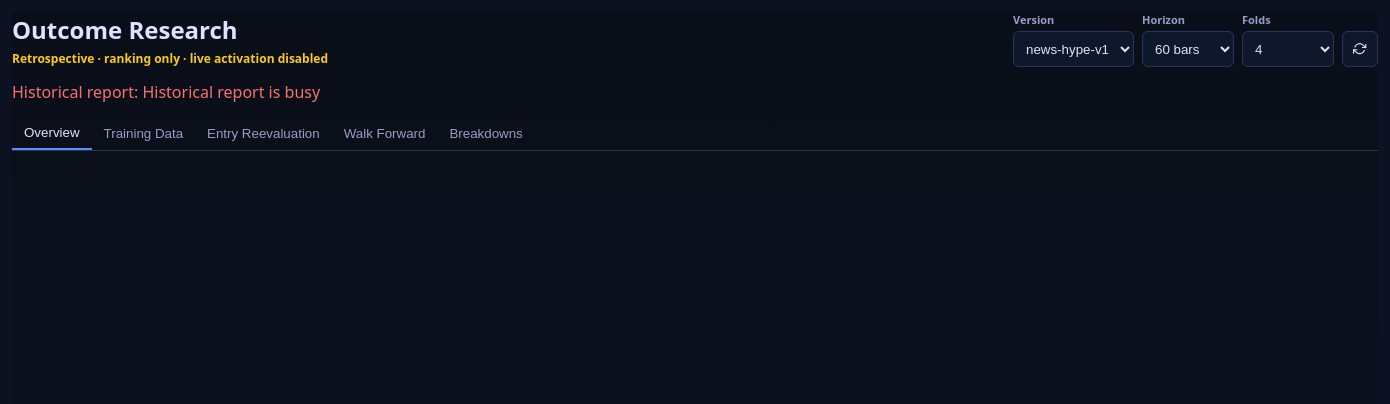
Test: Research › keeps successful sections when a historical request fails
Expected: the message shows "Historical report is busy", [12,81,320,103]
Click the tab "entry reevaluation" at (263, 134), box [195,117,332,150]
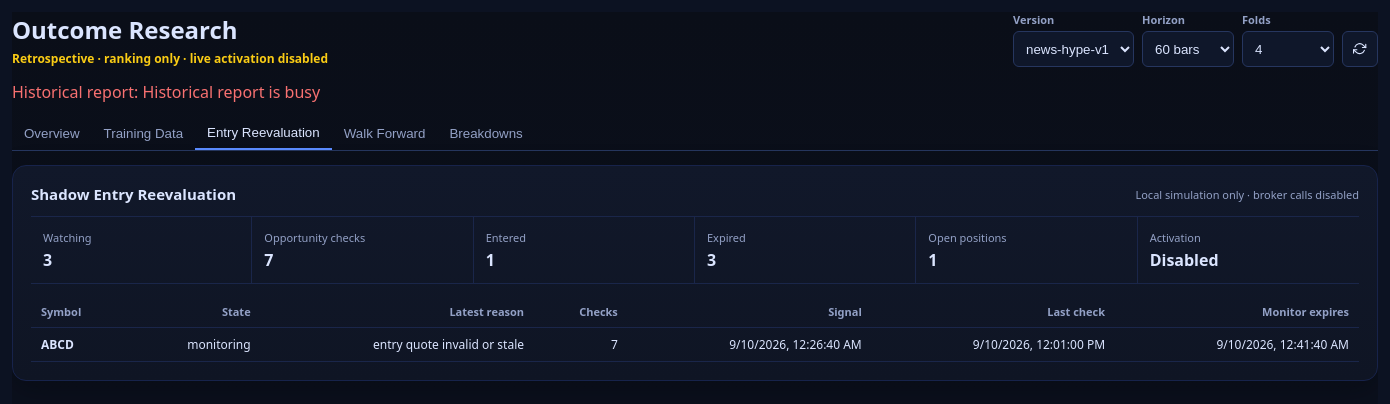
Expected: the button named "Refresh research results" is enabled, [1342,31,1378,67]
Expected: the column heading "ABCD" is shown, [31,328,127,362]
